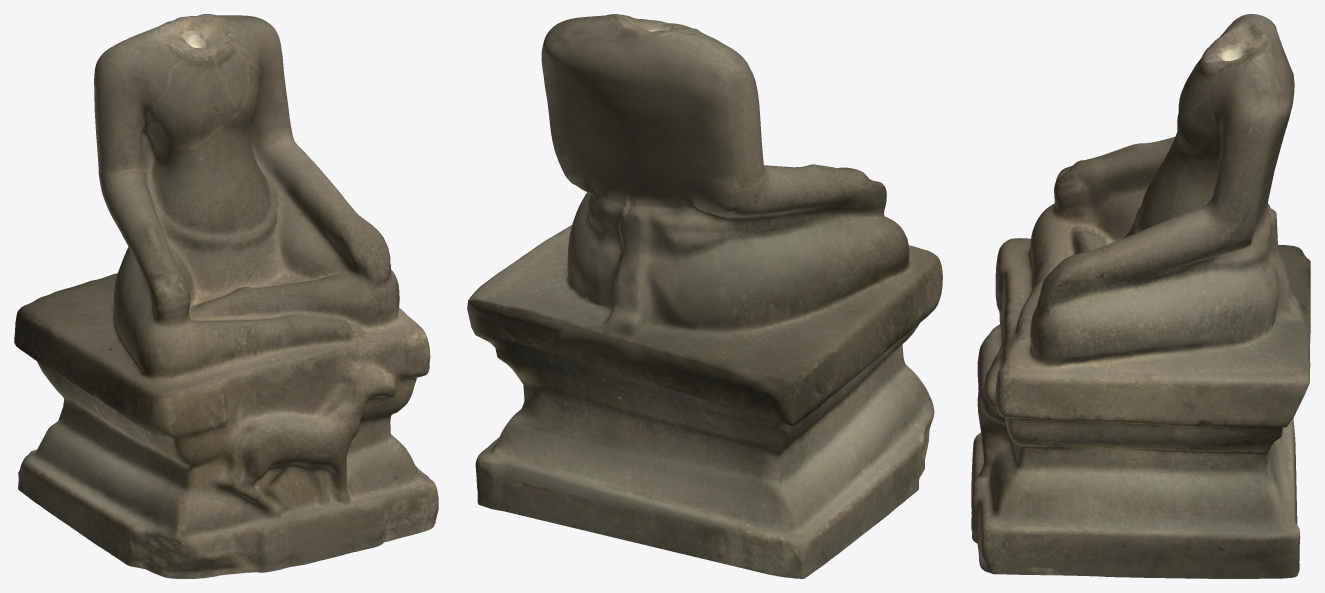
The model's file is 12_thanphuonghuong_vayu_final.glb.
3 views of the same model, side by side, from view 1: azimuth 30°, elevation 25°; view 2: azimuth 150°, elevation 25°; view 3: azimuth 270°, elevation 25° (orthographic). The views are drawn at different scales.
Bounding box in the file's own units: 0.3364 × 0.4862 × 0.3187.
1 material, 1 textured.
